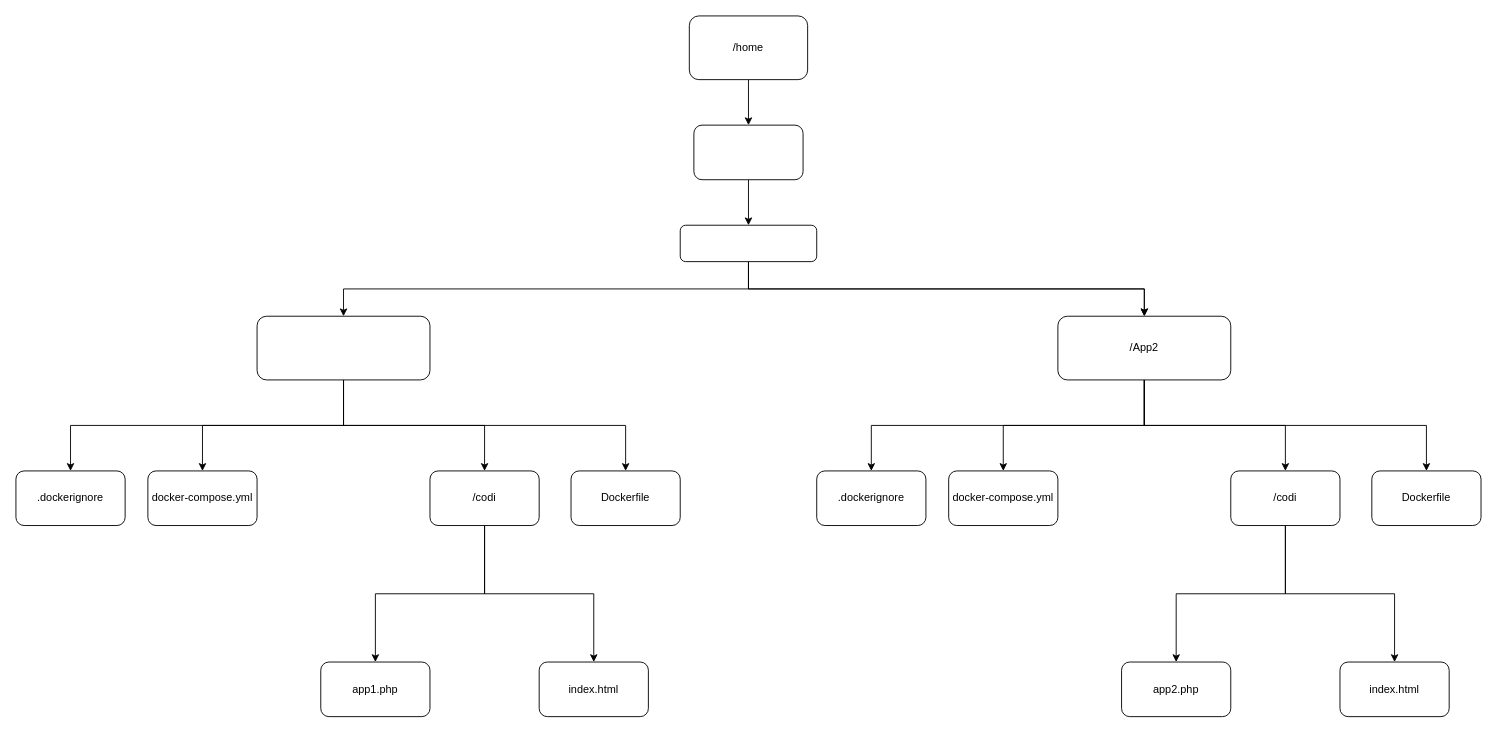
The diagram is 1497 pixels wide and 733 high, and some of its shapes have lost their labels. Each missing label, with the box of its shape:
/Aplicacions: (679, 224, 817, 262)
/App1: (256, 315, 430, 380)
/vagrant: (693, 124, 803, 180)
